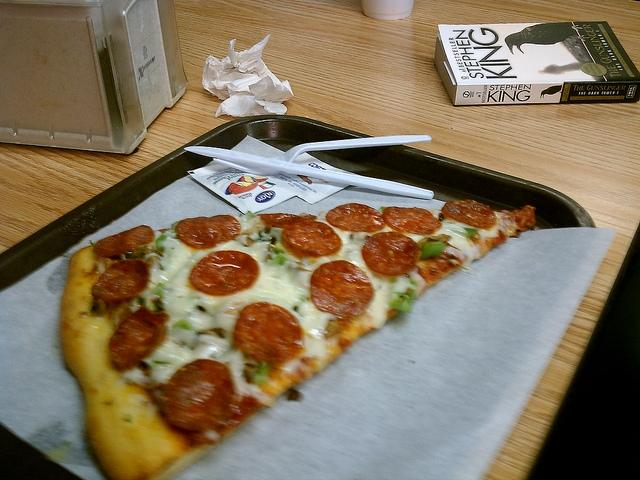bell pepper: (156, 222, 179, 253), (388, 288, 416, 312), (420, 241, 448, 260), (252, 361, 268, 384), (150, 282, 166, 298), (173, 319, 193, 329), (273, 253, 287, 266), (464, 228, 478, 238), (261, 226, 278, 234), (426, 236, 439, 243), (138, 296, 147, 306)
